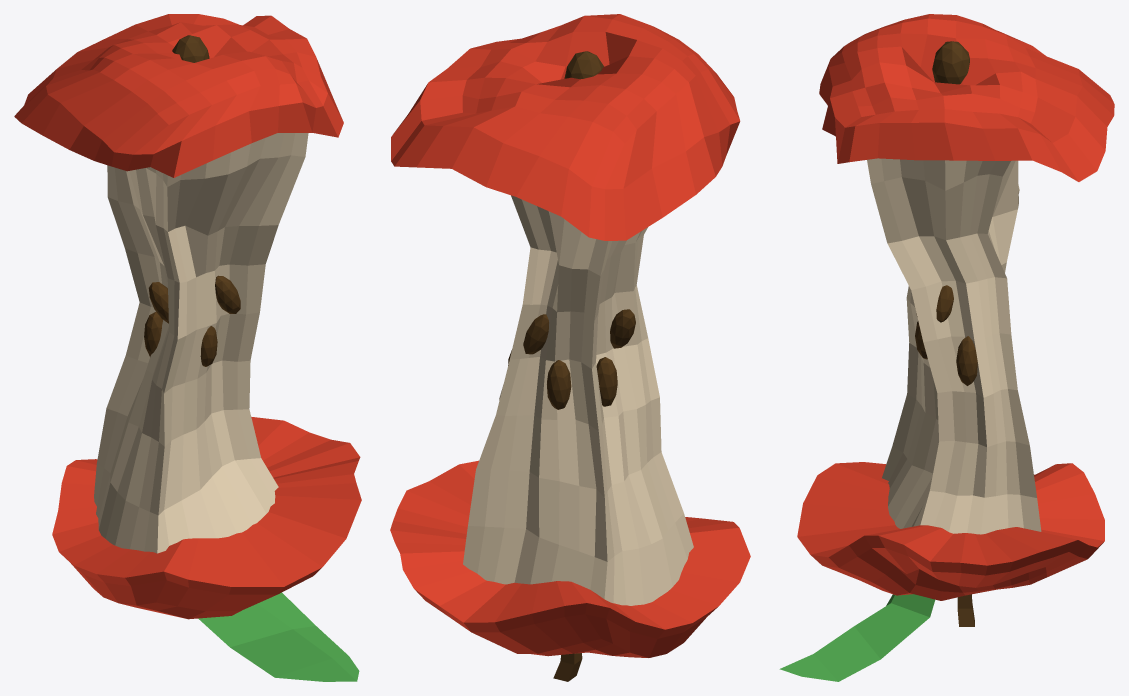
Rendered from JunkFood_Apple - Copy.fbx.
3 renders of one model, left to right at view 1: azimuth 30°, elevation 25°; view 2: azimuth 150°, elevation 25°; view 3: azimuth 270°, elevation 25°, orthographic. The views are drawn at different scales.
Parts seen in each view (by area): view 1: Cube, Plane, Icosphere.002, Icosphere; view 2: Cube, Icosphere.002, Icosphere, Cube.001; view 3: Cube, Plane, Icosphere.002, Icosphere, Cube.001.
Boxes of the visible parts, <box> form: Cube: <box>14,14,361,619</box>; Plane: <box>198,592,359,681</box>; Icosphere.002: <box>144,275,240,366</box>; Icosphere: <box>172,35,209,62</box>; Cube: <box>390,14,750,657</box>; Icosphere.002: <box>508,309,635,409</box>; Icosphere: <box>564,51,604,79</box>; Cube.001: <box>553,653,582,681</box>; Cube: <box>797,14,1114,600</box>; Plane: <box>779,594,935,681</box>; Icosphere.002: <box>915,285,977,385</box>; Icosphere: <box>932,41,969,84</box>; Cube.001: <box>957,594,974,626</box>.
Bounding box in the file's own units: 163 × 314 × 160.
